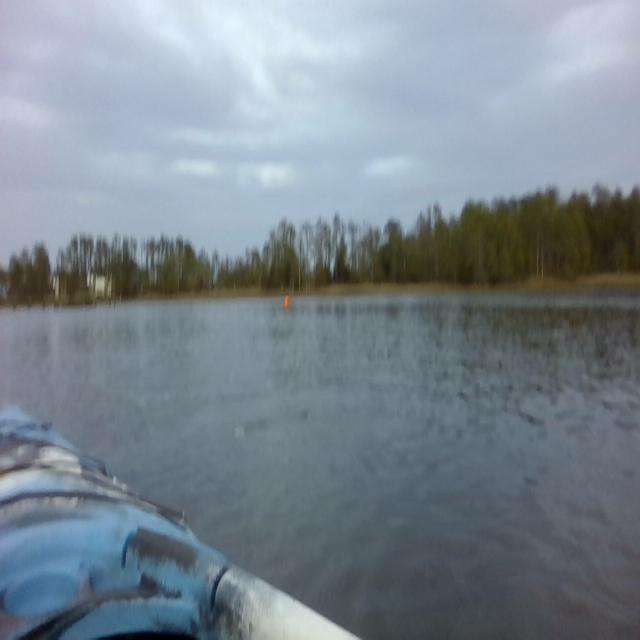Buoy: (283, 292, 291, 311)
